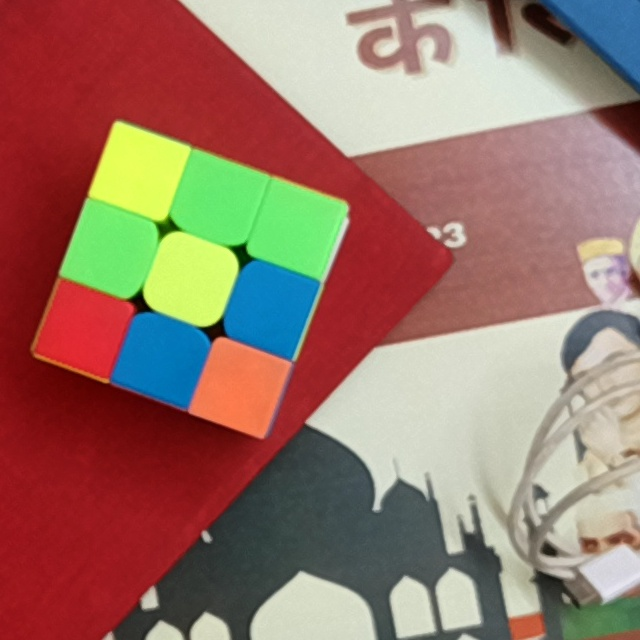tile: (81, 219, 140, 282), (211, 357, 271, 418), (241, 276, 299, 337), (188, 169, 246, 229), (53, 298, 113, 356), (160, 249, 220, 306), (131, 330, 192, 386), (110, 144, 169, 200), (268, 199, 328, 253)
